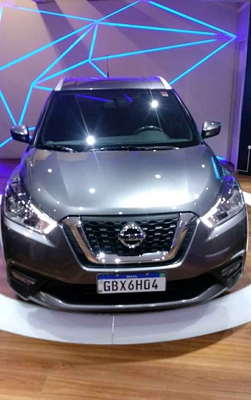Frontal Veiculo: (1, 86, 251, 311)
